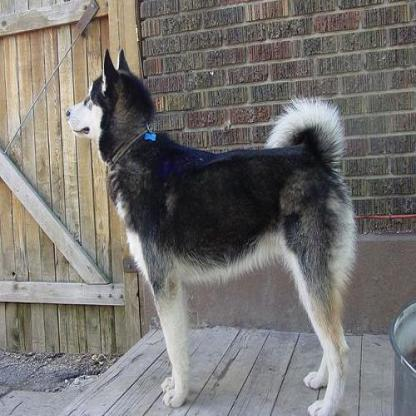malamute: (63, 47, 358, 414)
